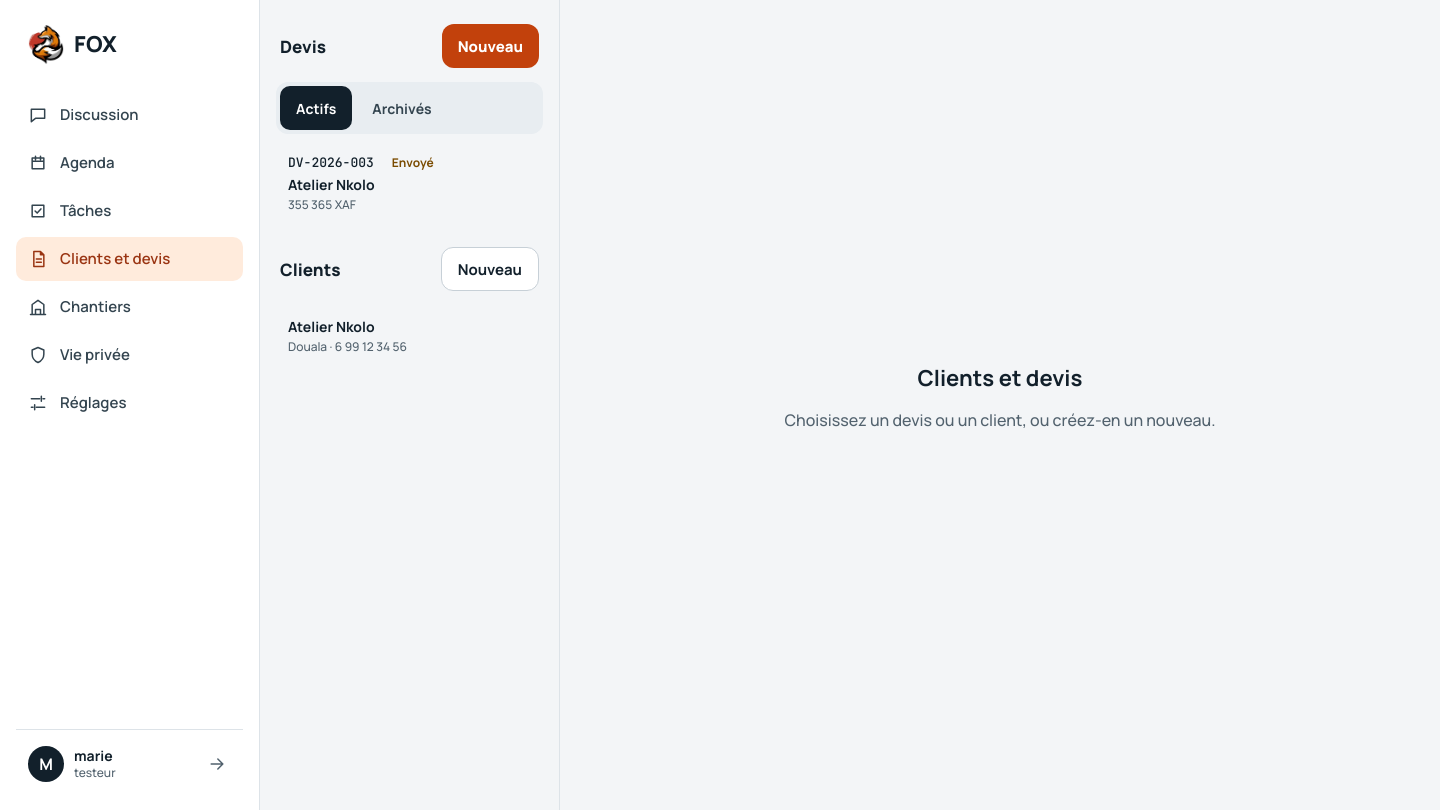
Test case: Clients et devis › liste les devis et les clients, puis affiche le détail avec les totaux
The width and height of the screenshot is (1440, 810).
Click the button "DV-2026-003 Envoyé Atelier Nkolo 355 365 XAF". click: coordinates (331, 162)
box: [276,140,543,225]
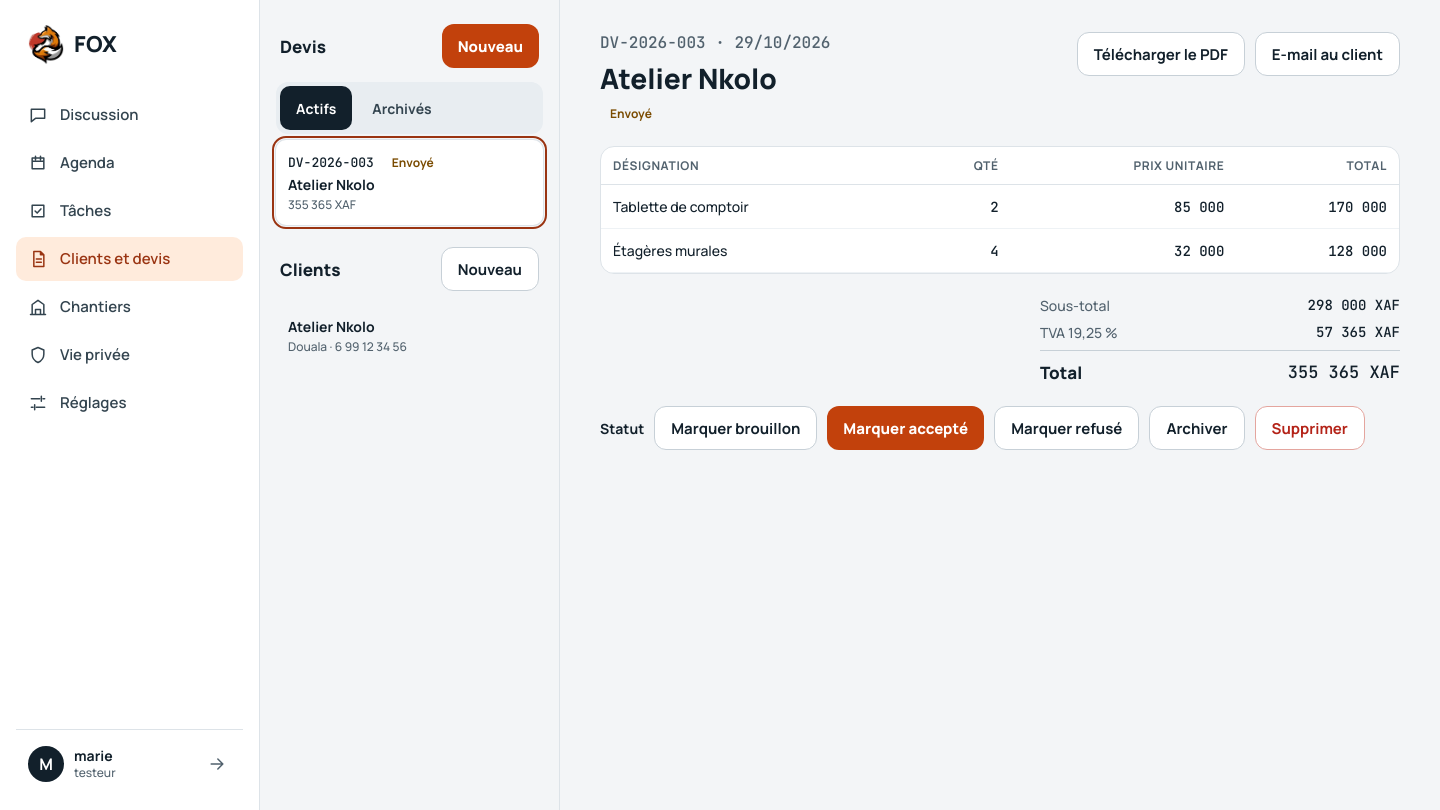
expect the text "Tablette de comptoir" is shown: met, box [601,184,915,228]
expect the text "TVA 19,25 %" is shown: met, box [1040,323,1118,342]
expect the text "355 365 XAF" below "TVA" is shown: met, box [1288,361,1400,383]
